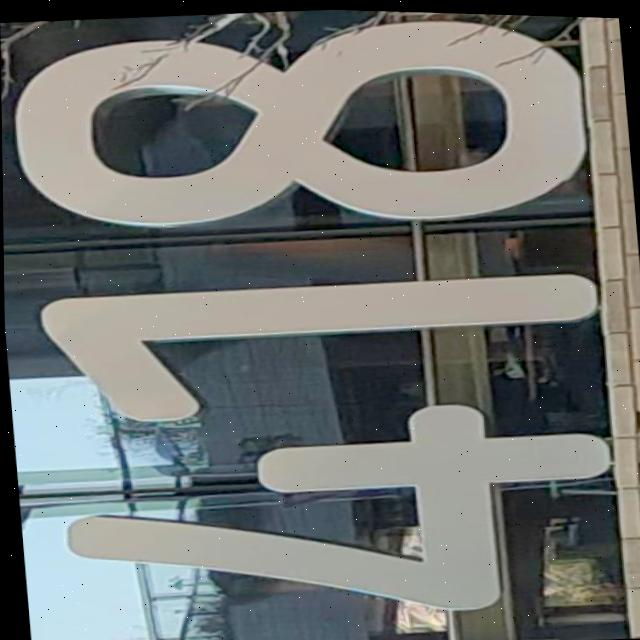character: (51, 374, 637, 640), (2, 0, 597, 260), (27, 242, 623, 445)
